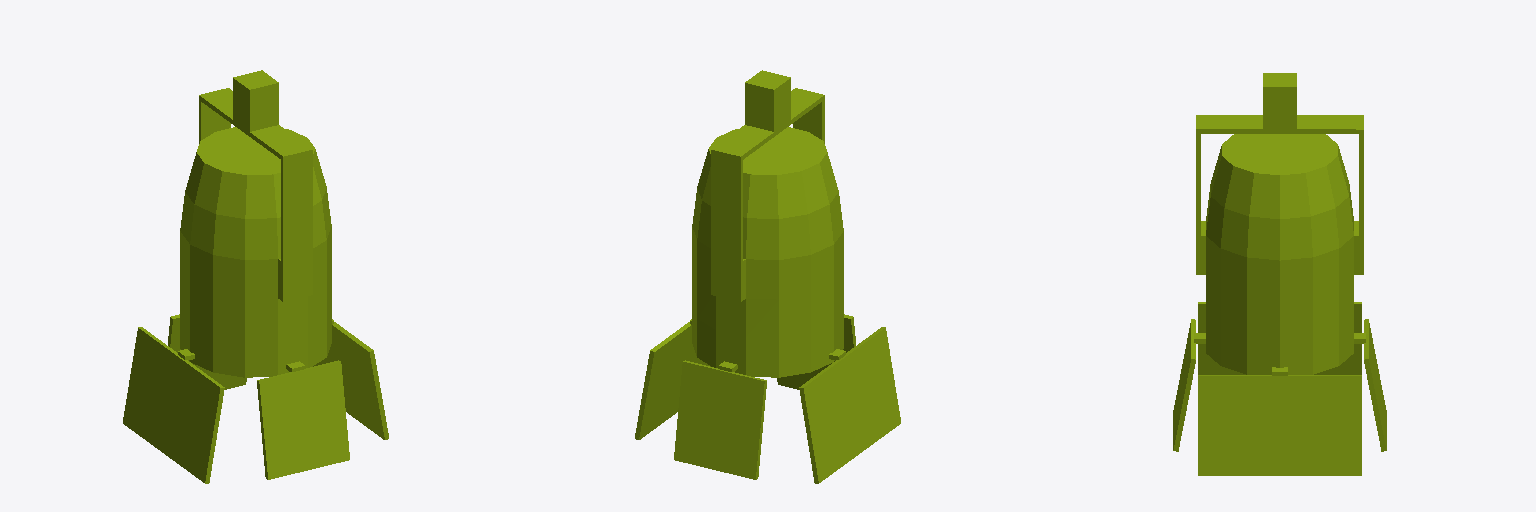
File: studio_light.obj
3 views of the same model, side by side, from view 1: azimuth 30°, elevation 25°; view 2: azimuth 150°, elevation 25°; view 3: azimuth 270°, elevation 25° (orthographic).
Parts seen in each view (by area): view 1: studio_light; view 2: studio_light; view 3: studio_light.
Part boxes in pixels (x1,y1,x2,y2): studio_light: (123, 70, 388, 483); studio_light: (635, 70, 900, 483); studio_light: (1173, 73, 1386, 475).
Bounding box in the file's own units: 0.481 × 0.8766 × 0.4816.